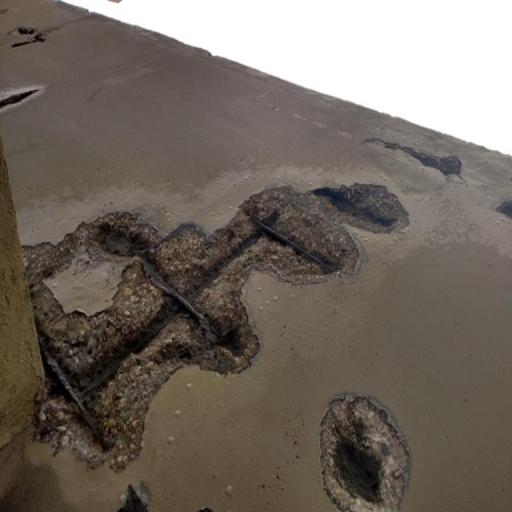spalling: (25, 175, 418, 468), (316, 388, 421, 512)
